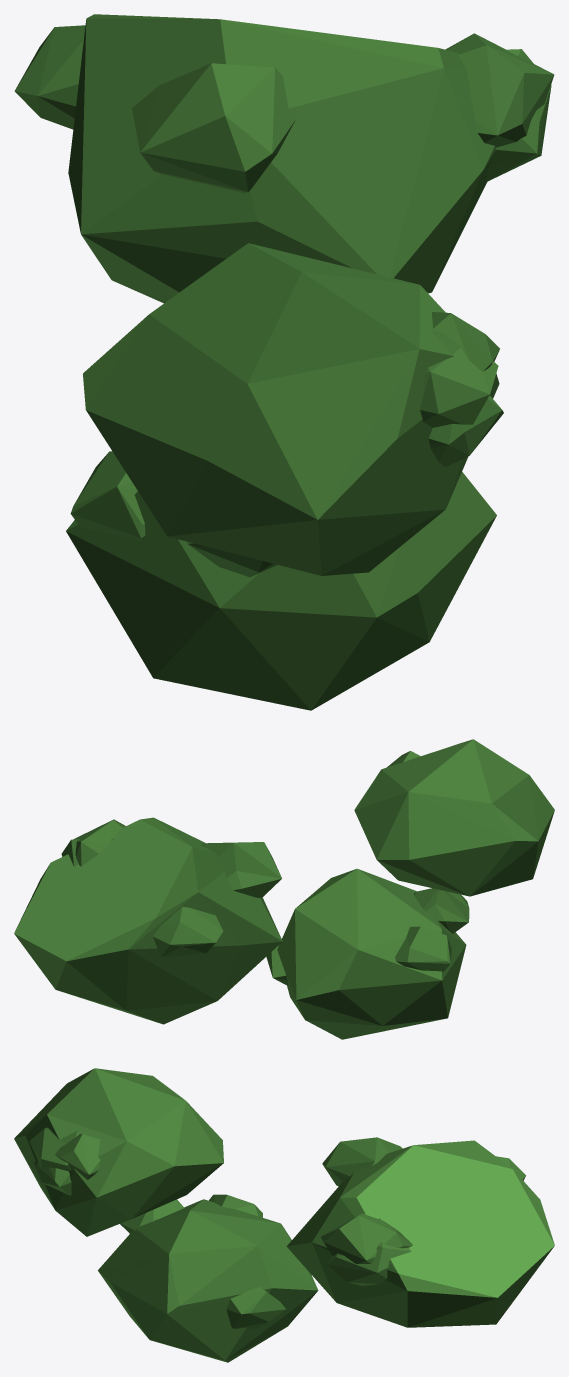
Rendered from Leaves_A.glb.
3 views of the same model, one above another, from view 1: azimuth 30°, elevation 25°; view 2: azimuth 150°, elevation 25°; view 3: azimuth 270°, elevation 25° (orthographic). The views are drawn at different scales.
Parts seen in each view (by area): view 1: Leaves; view 2: Leaves; view 3: Leaves.
Boxes of the visible parts, x1,y1,x2,y2 form: Leaves: (14,14,554,710); Leaves: (14,739,554,1039); Leaves: (14,1068,554,1362).
Bounding box in the file's own units: 17.03 × 11.99 × 22.29.
